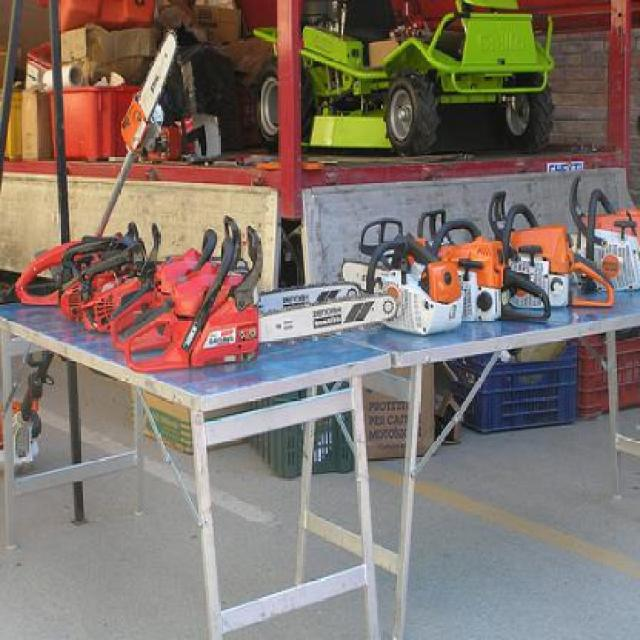Chainsaw: (129, 223, 397, 379), (108, 209, 363, 351), (342, 234, 464, 332), (117, 30, 186, 162)
